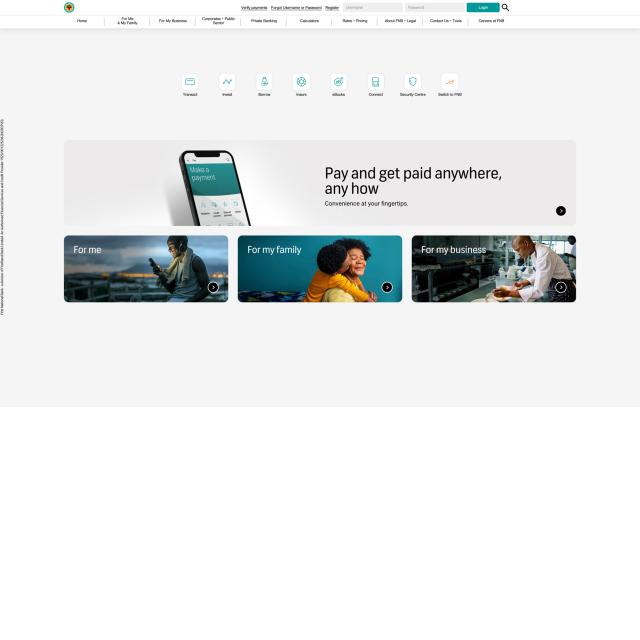input: (405, 2, 465, 12), (342, 3, 402, 12)
logo: (63, 2, 75, 14)
navigation: (176, 72, 467, 101), (75, 16, 510, 27)
